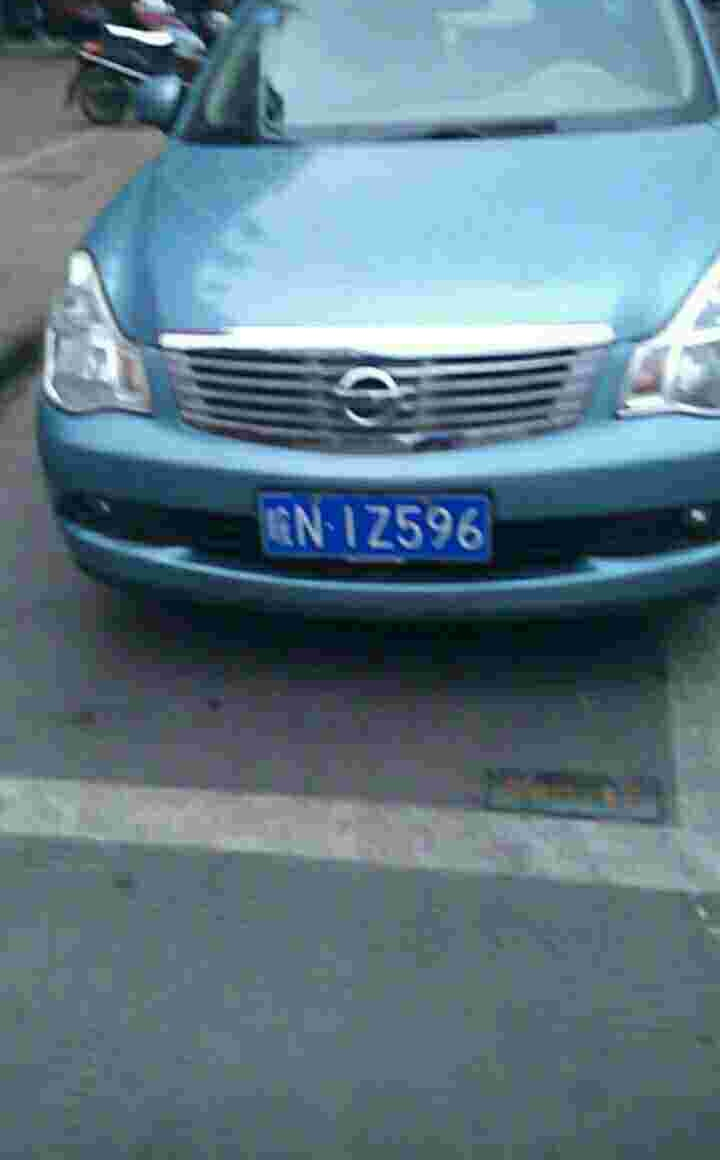license_plate: (263, 487, 494, 571)
